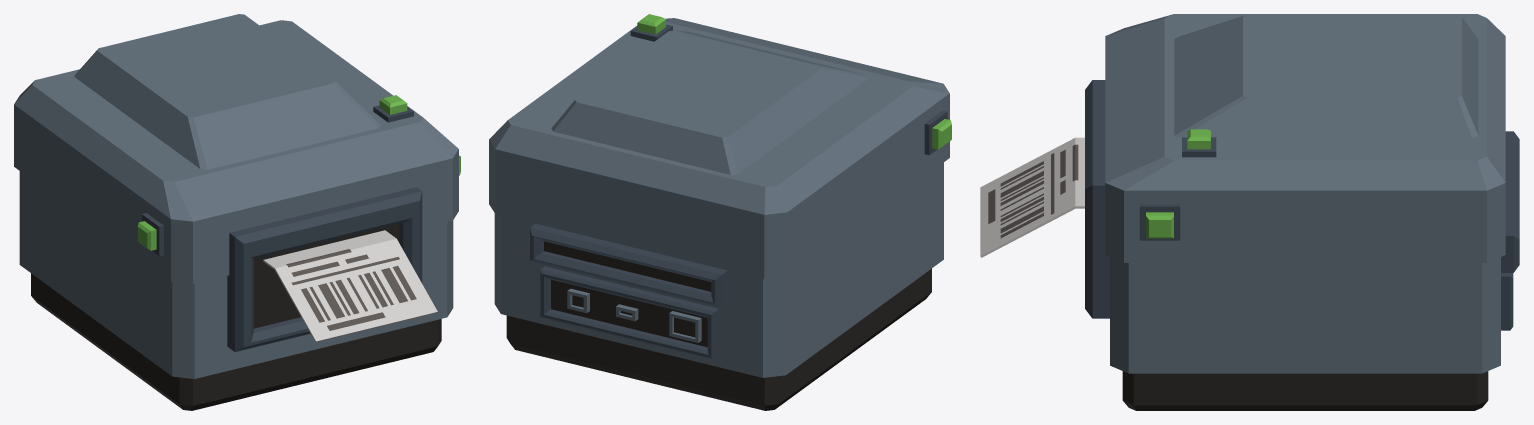
The model's file is printer.glb.
3 renders of one model, left to right at view 1: azimuth 30°, elevation 25°; view 2: azimuth 150°, elevation 25°; view 3: azimuth 270°, elevation 25°, orthographic. The views are drawn at different scales.
Visible parts, largest first — view 1: body; view 2: body; view 3: body.
Boxes of the visible parts, box(x1,y1,x2,y2) form: body: box(14, 14, 460, 410); body: box(489, 14, 951, 410); body: box(980, 14, 1519, 410).
Bounding box in the file's own units: 0.268 × 0.2 × 0.345.
